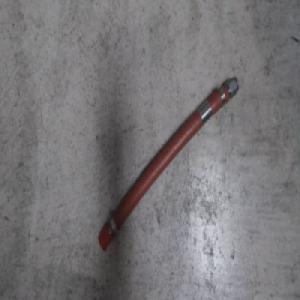Hose: (97, 73, 239, 255)
